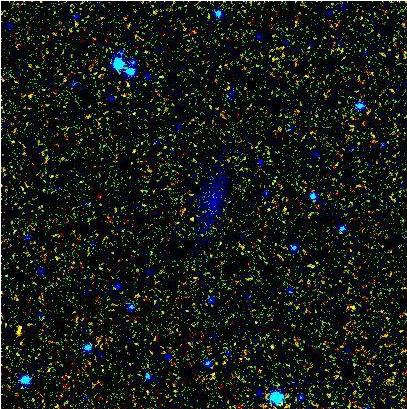star: (178, 203, 208, 233)
